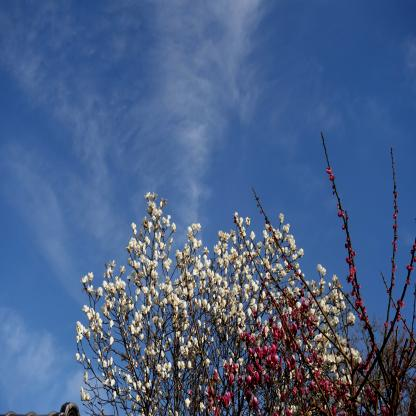Mokuren: (71, 190, 364, 416), (189, 134, 416, 416)
